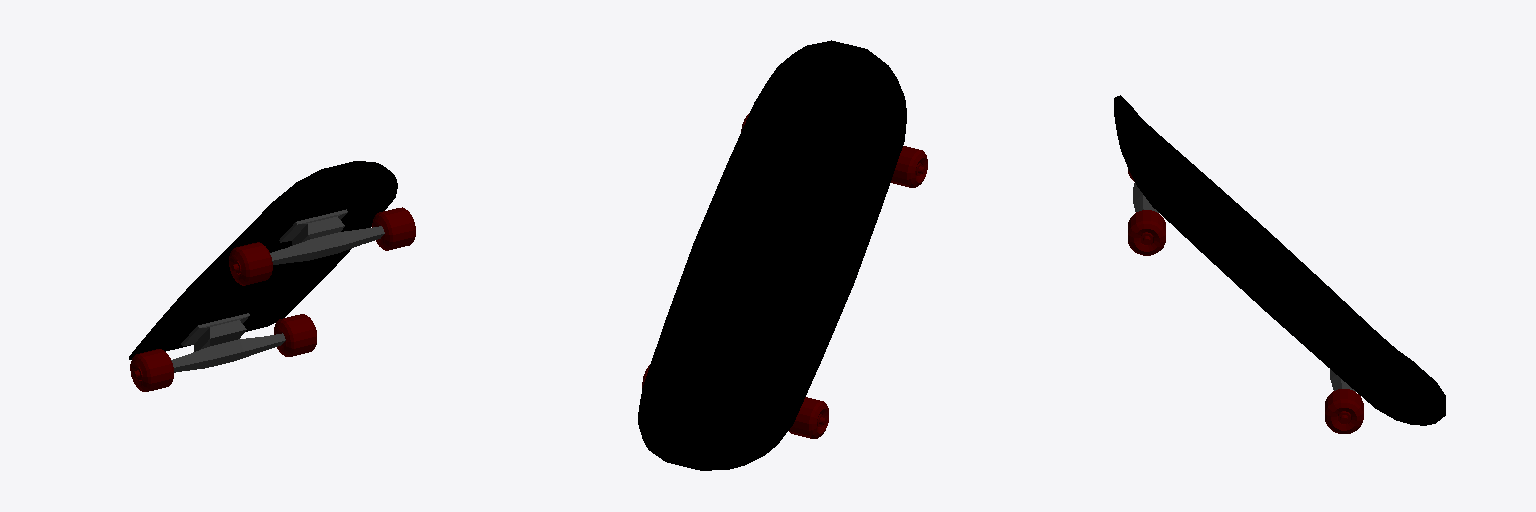
The model's file is colorSkateboard.obj.
The picture shows the model from 3 angles: view 1: azimuth 30°, elevation 25°; view 2: azimuth 150°, elevation 25°; view 3: azimuth 270°, elevation 25°; orthographic projection.
Parts seen in each view (by area): view 1: Cube.001_Cube.005, Cube.001_Cube.002, Cube.001_Cube.003; view 2: Cube.001_Cube.005, Cube.001_Cube.003; view 3: Cube.001_Cube.005, Cube.001_Cube.003, Cube.001_Cube.002.
Part boxes in pixels (left/top/right/bottom): Cube.001_Cube.005: left=129, top=161, right=397, bottom=359; Cube.001_Cube.002: left=171, top=209, right=384, bottom=372; Cube.001_Cube.003: left=130, top=207, right=415, bottom=391; Cube.001_Cube.005: left=638, top=40, right=906, bottom=470; Cube.001_Cube.003: left=642, top=113, right=927, bottom=438; Cube.001_Cube.005: left=1114, top=95, right=1445, bottom=425; Cube.001_Cube.003: left=1128, top=169, right=1363, bottom=433; Cube.001_Cube.002: left=1133, top=183, right=1355, bottom=391.
Bounding box in the file's own units: 1.2 × 1.93 × 1.93.